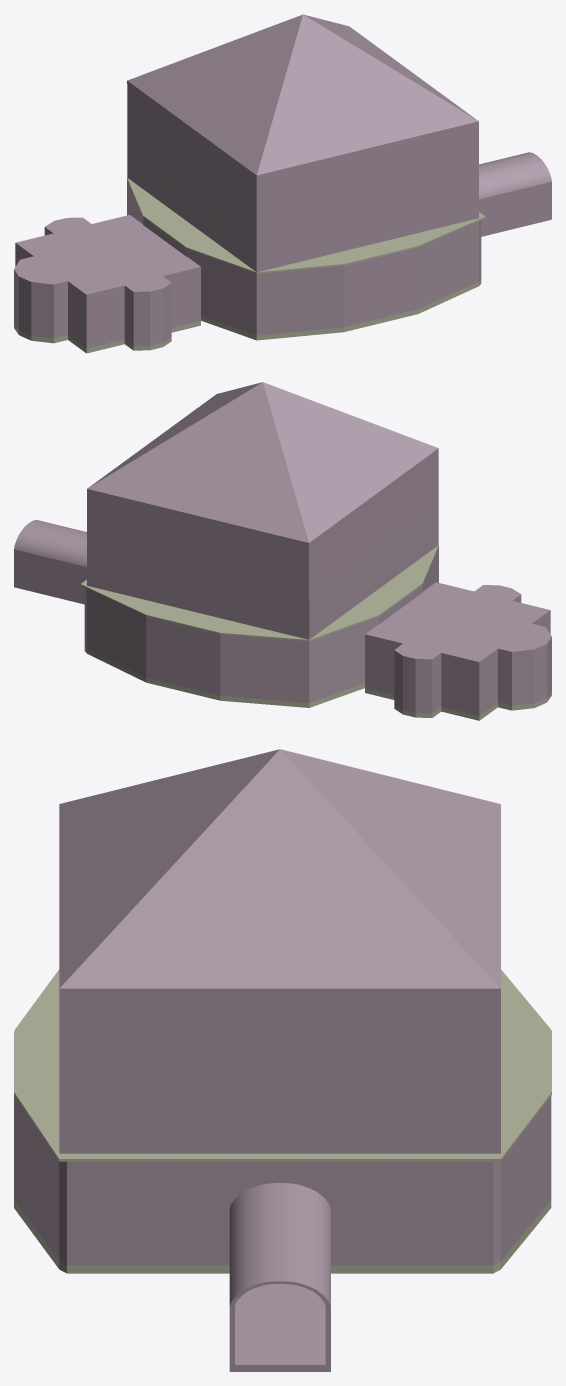
The model's file is LibraryPrototype.fbx.
3 views of the same model, one above another, from view 1: azimuth 30°, elevation 25°; view 2: azimuth 150°, elevation 25°; view 3: azimuth 270°, elevation 25° (orthographic). The views are drawn at different scales.
Visible parts, largest first — view 1: Ceiling, Walls2.001, Walls1, Walls2, Ceiling_A2, Walls_A2.003, Floor2, Walls_A2.001, Corridor.Wall.L, Corridor.Ceiling, Floor1, Floor_A2; view 2: Ceiling, Walls2.003, Walls1, Walls2, Ceiling_A2, Walls_A2.002, Floor2, Walls_A2.001, Corridor.Wall.R, Corridor.Ceiling, Floor1, Floor_A2; view 3: Ceiling, Walls2.002, Walls1, Floor2, Corridor.Ceiling, Corridor.Floor, Floor1.
Boxes of the visible parts, x1,y1,x2,y2 form: Ceiling: (127,14,478,175); Walls2.001: (256,121,478,272); Walls1: (127,179,481,335); Walls2: (127,81,256,271); Ceiling_A2: (14,215,200,296); Walls_A2.003: (86,269,200,348); Floor2: (127,177,485,273); Walls_A2.001: (14,245,86,348); Corridor.Wall.L: (479,182,551,236); Corridor.Ceiling: (479,152,551,199); Floor1: (201,279,481,340); Floor_A2: (14,321,200,353); Ceiling: (87,382,438,542); Walls2.003: (87,489,309,639); Walls1: (84,547,438,702); Walls2: (309,448,438,639); Ceiling_A2: (365,582,551,664); Walls_A2.002: (365,636,479,715); Floor2: (80,545,438,641); Walls_A2.001: (479,612,551,715); Corridor.Wall.R: (14,549,86,604); Corridor.Ceiling: (14,520,86,566); Floor1: (84,647,364,707); Floor_A2: (365,688,551,720); Ceiling: (59,749,500,988); Walls2.002: (59,988,500,1153); Walls1: (14,1033,551,1265); Floor2: (14,969,551,1161); Corridor.Ceiling: (229,1183,330,1306); Corridor.Floor: (235,1283,325,1371); Floor1: (14,1200,551,1273).
Bounding box in the file's own units: 40.14 × 18.62 × 21.2.
